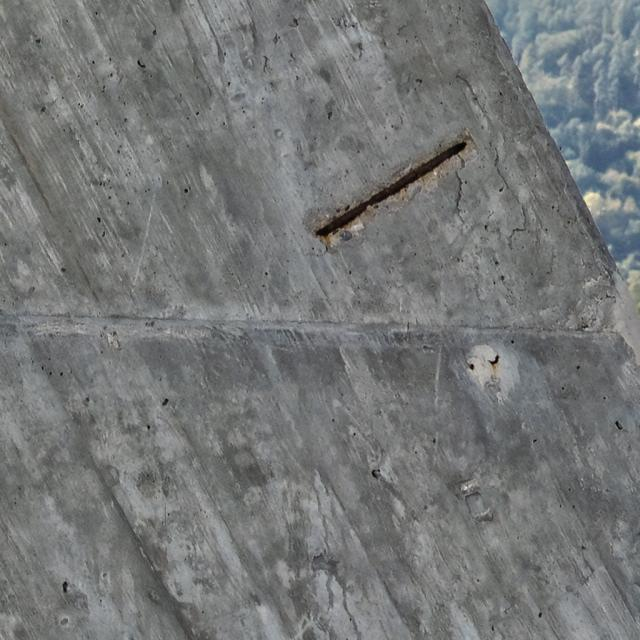D0w0: (318, 138, 473, 237)
